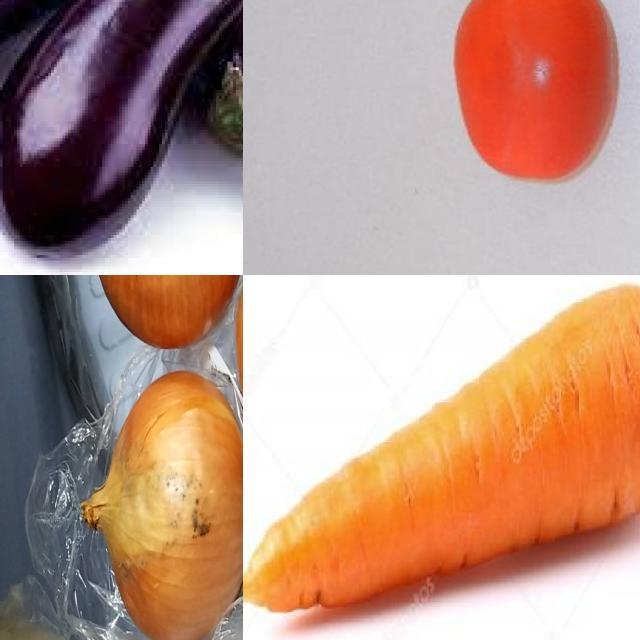carrot: (244, 276, 640, 615)
eggplant: (1, 1, 244, 259), (134, 1, 244, 190), (1, 1, 188, 85)
onion: (81, 370, 244, 640), (91, 276, 244, 351)
tomato: (434, 1, 634, 201)
